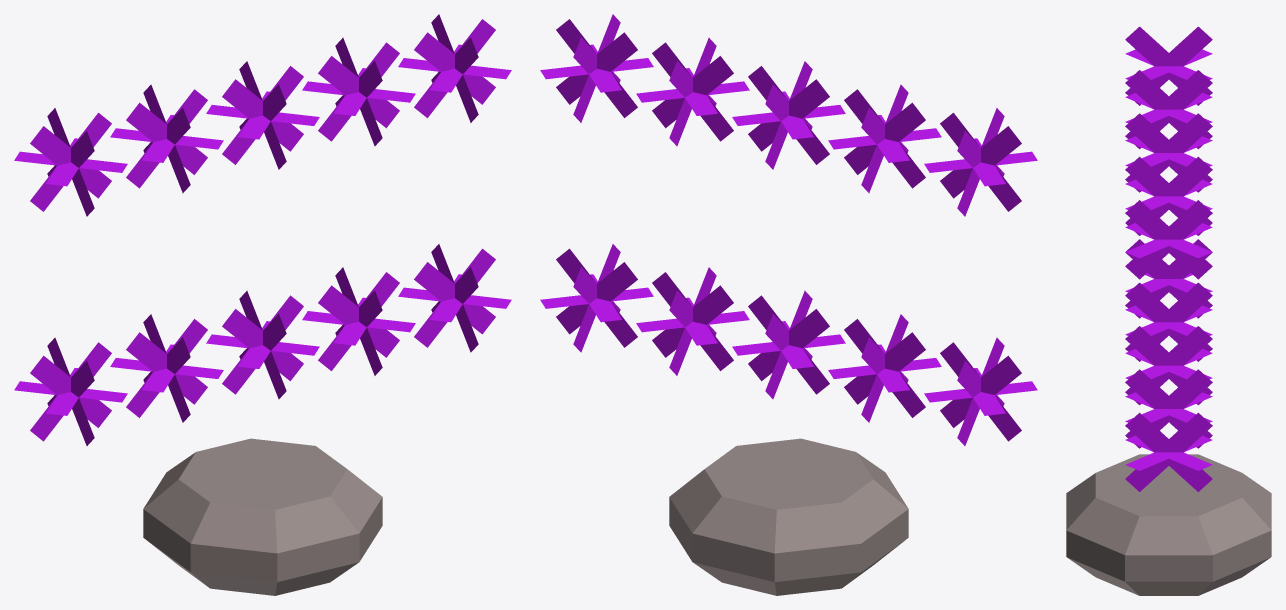
Rendered from gfx_186.obj.
The picture shows the model from 3 angles, left to right: view 1: azimuth 30°, elevation 25°; view 2: azimuth 150°, elevation 25°; view 3: azimuth 270°, elevation 25°; orthographic projection. The views are drawn at different scales.
Bounding box in the file's own units: 0.2656 × 0.2656 × 0.1094.
